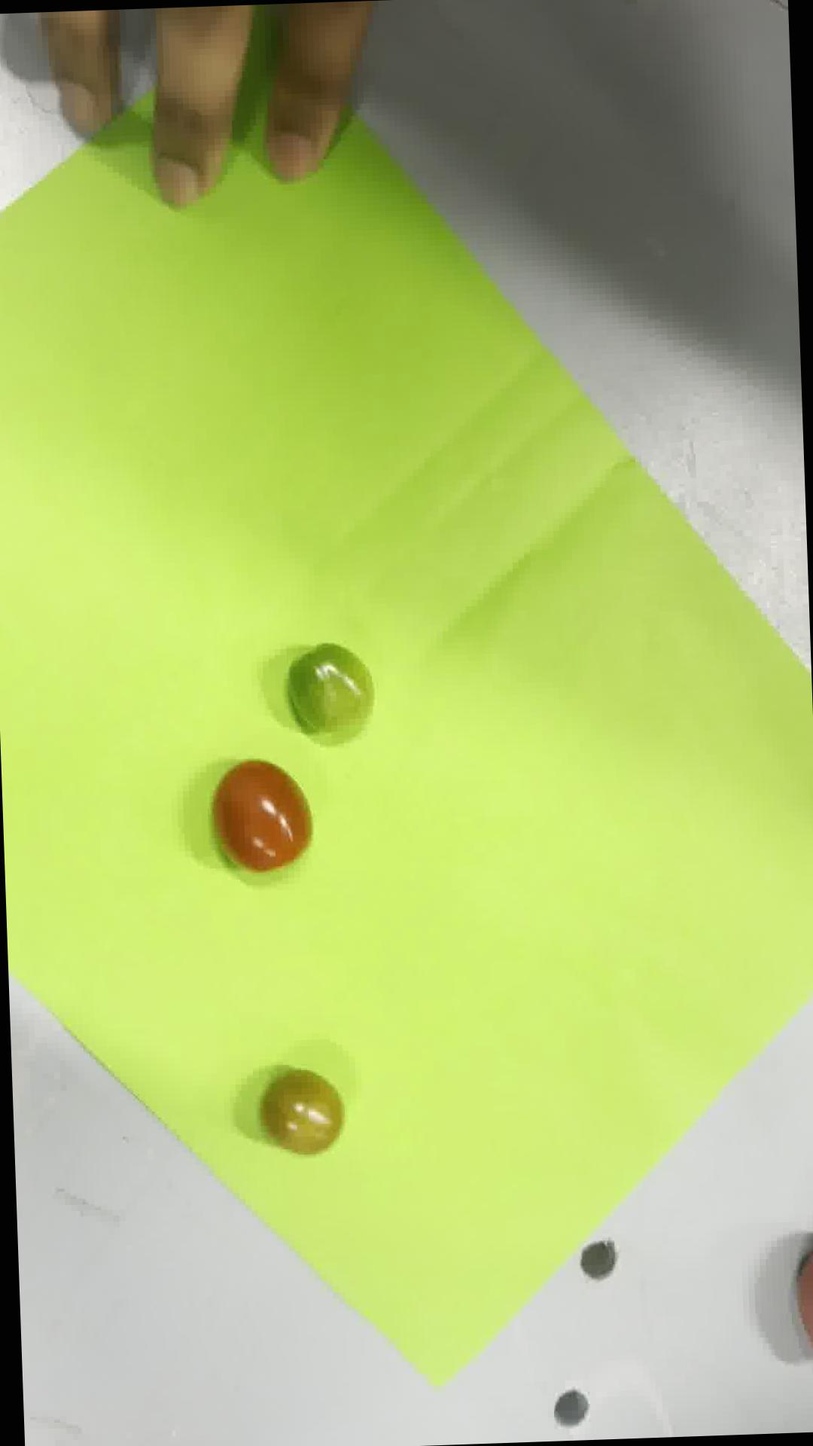green_cherry_tomato: (287, 642, 374, 743)
red_cherry_tomato: (213, 760, 312, 872)
yellow_cherry_tomato: (261, 1068, 343, 1155)
